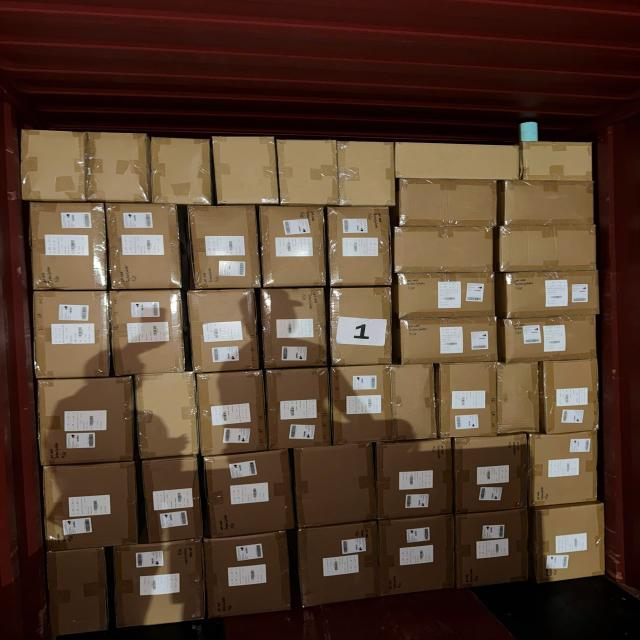Carton: (33, 378, 130, 467), (41, 466, 133, 556), (112, 541, 204, 629), (202, 453, 290, 539), (210, 532, 294, 621), (30, 203, 110, 294), (297, 445, 378, 531), (302, 523, 382, 610), (32, 293, 110, 382), (108, 204, 183, 294), (110, 289, 186, 374), (378, 439, 456, 519), (188, 204, 260, 290), (455, 433, 531, 513), (381, 519, 455, 600), (188, 288, 259, 372), (456, 510, 530, 590), (535, 503, 607, 585), (198, 371, 266, 457), (261, 205, 328, 289), (328, 205, 394, 288), (260, 289, 326, 372), (528, 431, 598, 508), (268, 368, 332, 452), (134, 371, 196, 456), (330, 285, 394, 366), (145, 456, 204, 543), (48, 547, 106, 635), (394, 224, 495, 273), (398, 181, 500, 229), (395, 319, 498, 366), (395, 142, 519, 181), (332, 363, 392, 443), (210, 136, 276, 208), (503, 271, 602, 319), (435, 359, 495, 438), (22, 130, 86, 204), (497, 226, 597, 272), (88, 132, 152, 203), (499, 182, 597, 228), (502, 320, 600, 366), (395, 275, 496, 318), (542, 358, 599, 433), (152, 136, 213, 206), (280, 138, 340, 206), (339, 139, 396, 207), (394, 364, 438, 442), (496, 359, 540, 432), (524, 140, 596, 180)
